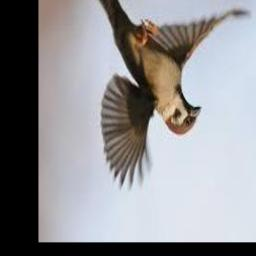Sparrow: (87, 0, 252, 191)
